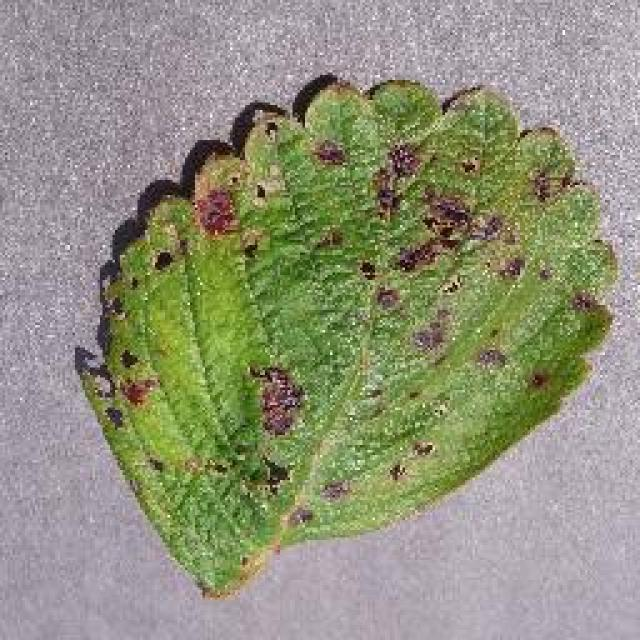Strawberry leaf scorch: (123, 93, 550, 467)
